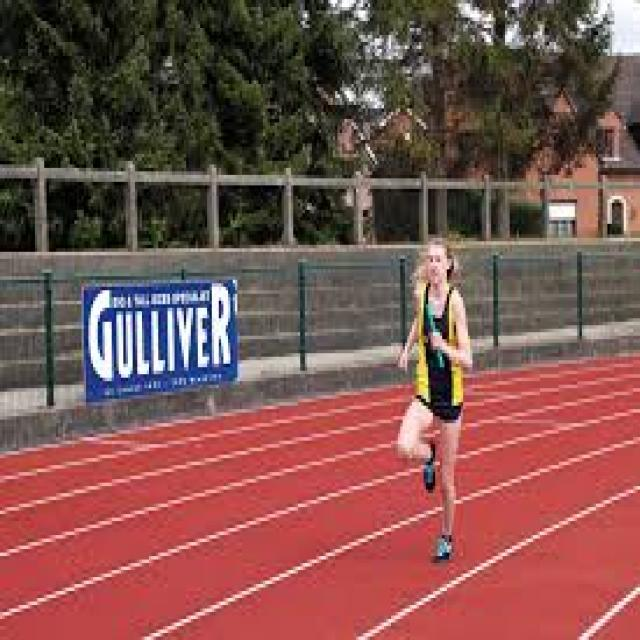running: (391, 236, 476, 566)
